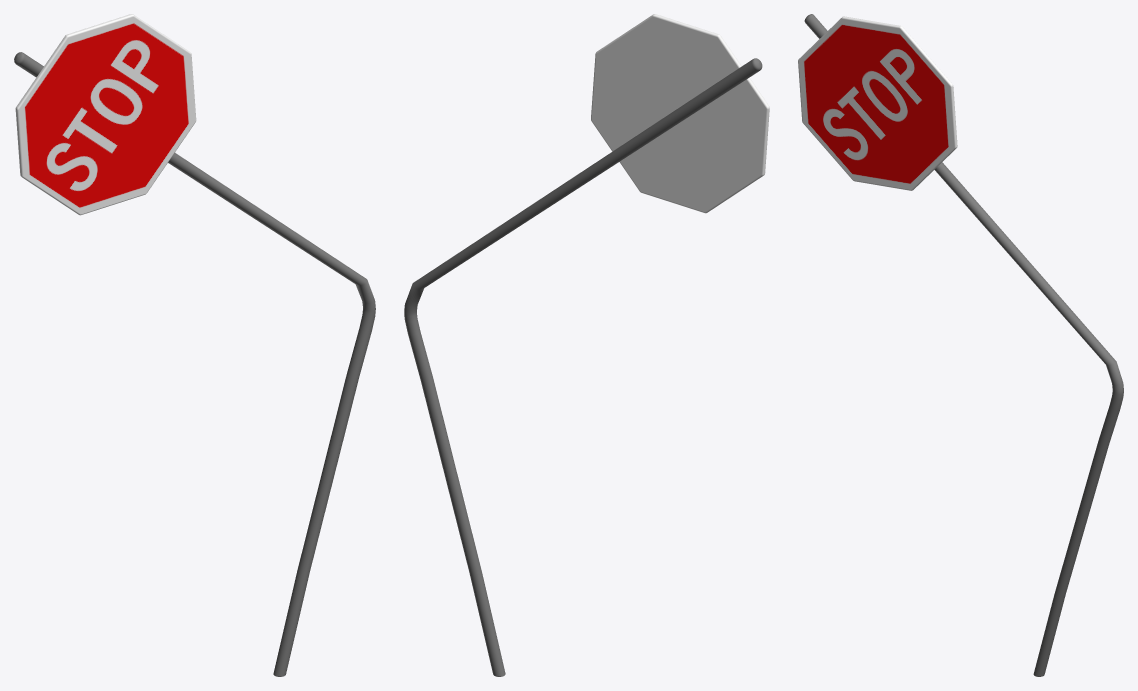
Rendered from brokensign.fbx.
3 renders of one model, left to right at view 1: azimuth 30°, elevation 25°; view 2: azimuth 150°, elevation 25°; view 3: azimuth 330°, elevation 25°, orthographic. The views are drawn at different scales.
Visible parts, largest first — view 1: broken_sign_mesh_combined_result; view 2: broken_sign_mesh_combined_result; view 3: broken_sign_mesh_combined_result.
Boxes of the visible parts, x1,y1,x2,y2 form: broken_sign_mesh_combined_result: (14,14,375,676); broken_sign_mesh_combined_result: (404,14,769,676); broken_sign_mesh_combined_result: (798,14,1123,676).
Bounding box in the file's own units: 82.27 × 152 × 3.52.
2 materials, 2 textured.
